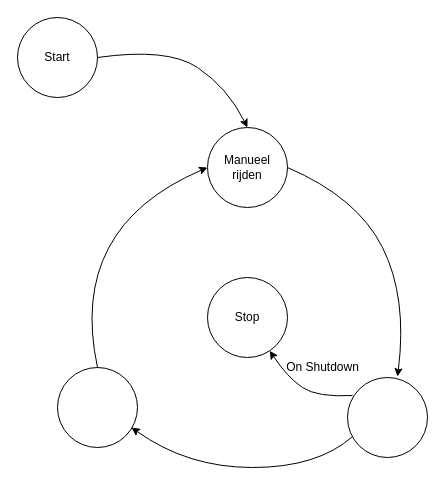
Some shapes in this 445 by 485 pixel diagram are drawn without their labels. The shapes that lost their labels are listed below. From the top down, each one's centre as x and y in pixels, then its label:
At point 97,407: "Parcour rijden".
At point 387,417: "Lijn volgen".
